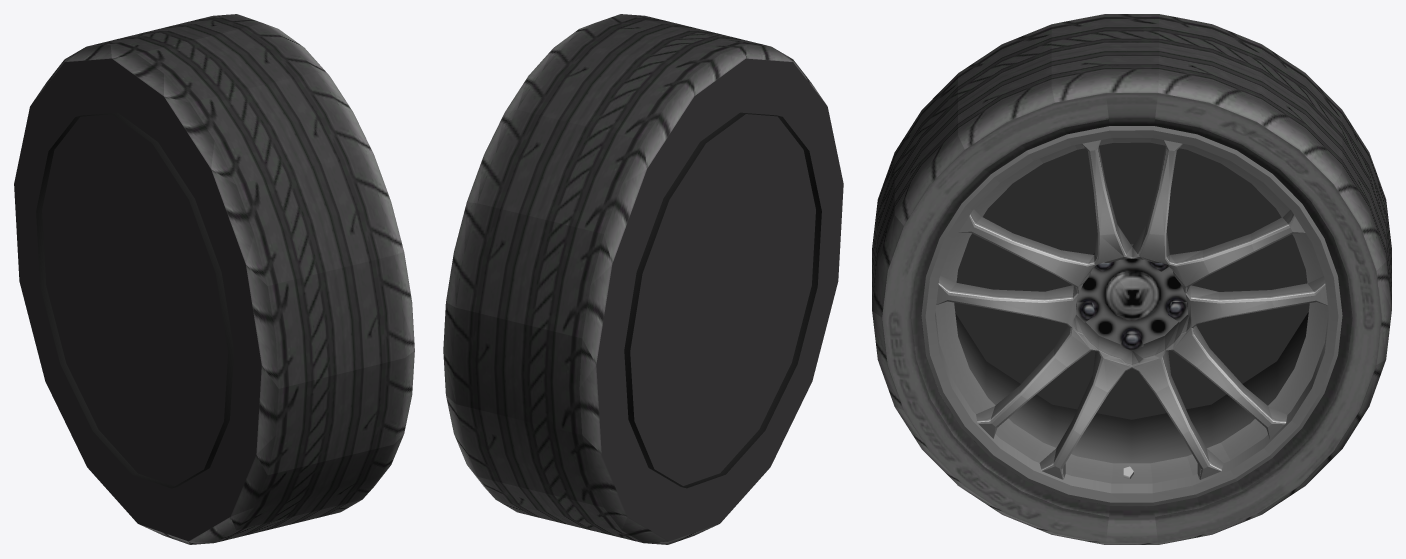
Rendered from Supra_Wheels.obj.
The picture shows the model from 3 angles, left to right: view 1: azimuth 30°, elevation 25°; view 2: azimuth 150°, elevation 25°; view 3: azimuth 270°, elevation 25°; orthographic projection.
Parts seen in each view (by area): view 1: Mesh_0223, Mesh_0227; view 2: Mesh_0223, Mesh_0227; view 3: Mesh_0223, Mesh_0227.
Boxes of the visible parts, x1=… form: Mesh_0223: x1=14, y1=14, x2=414, y2=544; Mesh_0227: x1=36, y1=112, x2=233, y2=488; Mesh_0223: x1=443, y1=14, x2=843, y2=544; Mesh_0227: x1=624, y1=112, x2=821, y2=488; Mesh_0223: x1=872, y1=14, x2=1391, y2=544; Mesh_0227: x1=921, y1=126, x2=1342, y2=505.
Size of the model in its own units: 0.283 by 0.7827 by 0.7871.
